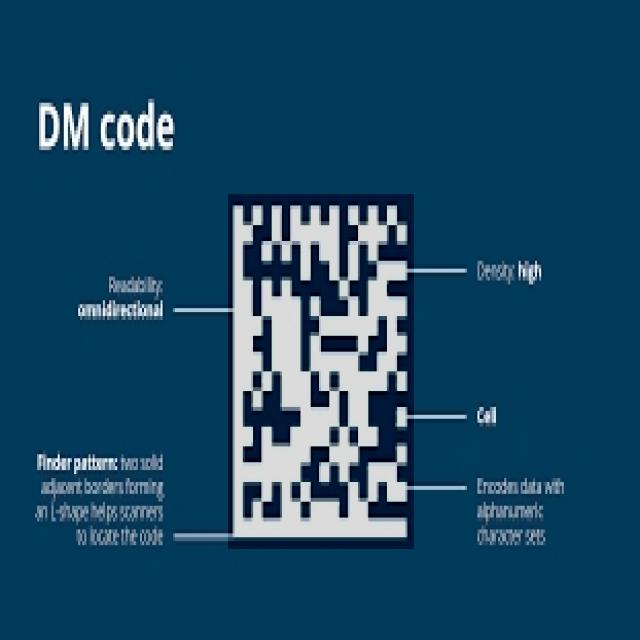DataMatrix: (228, 194, 414, 549)
